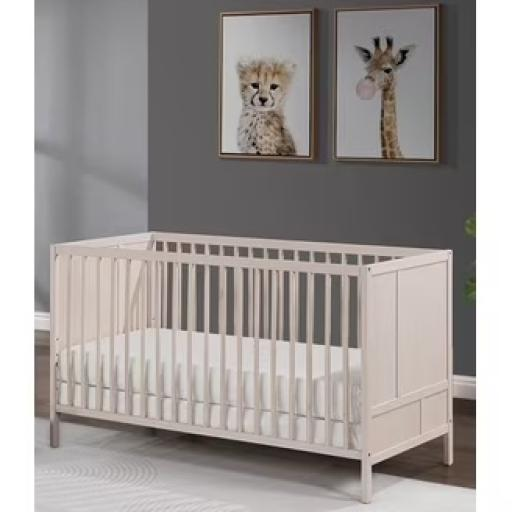crib: (50, 233, 452, 502)
